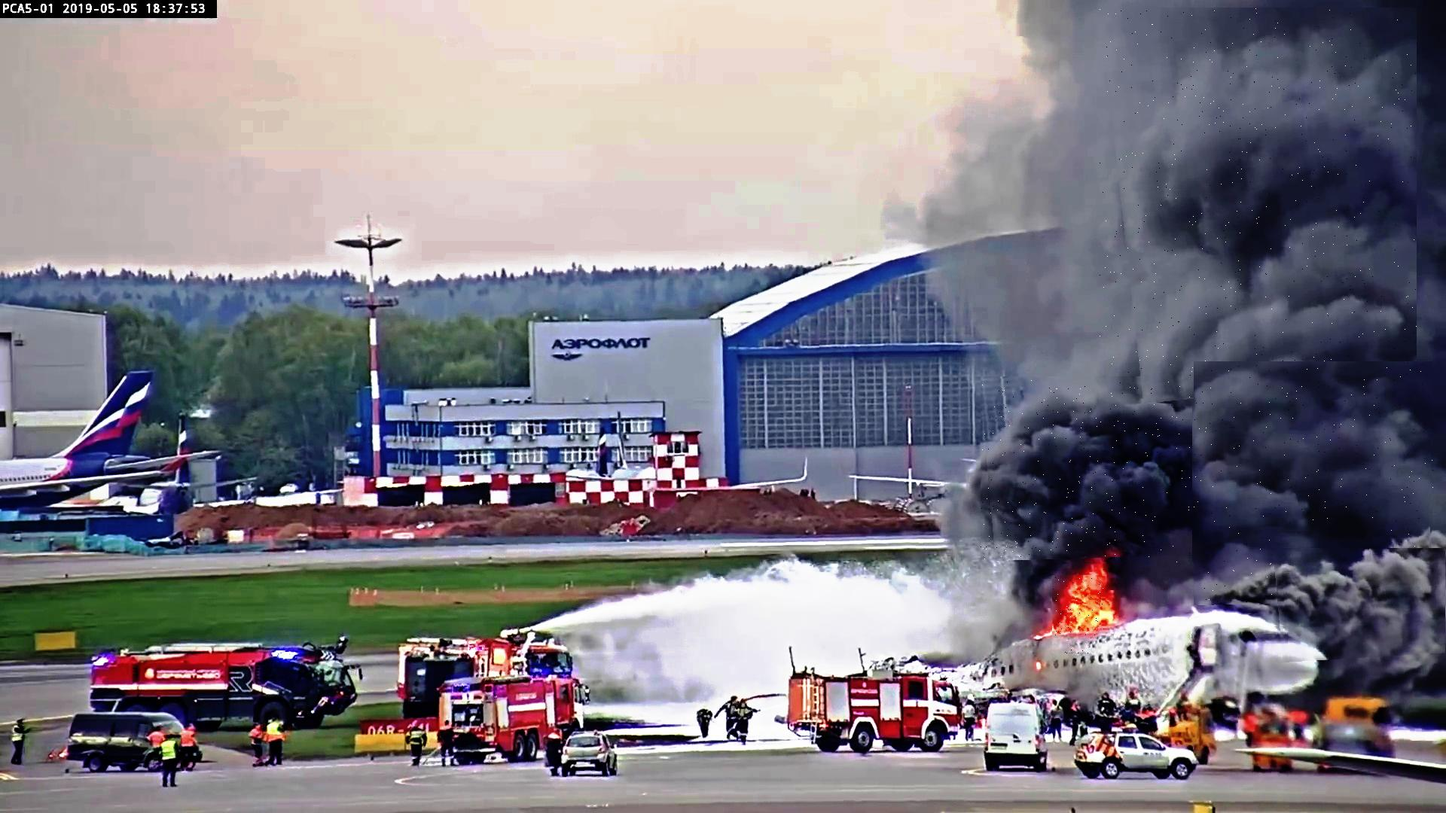fire: (1053, 575, 1105, 654)
smoke: (1100, 8, 1417, 404), (1194, 362, 1434, 606), (981, 377, 1197, 563), (1273, 548, 1446, 662)
